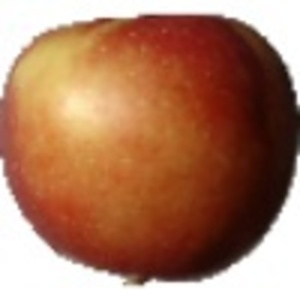maçã braeburn: (1, 10, 299, 281)
